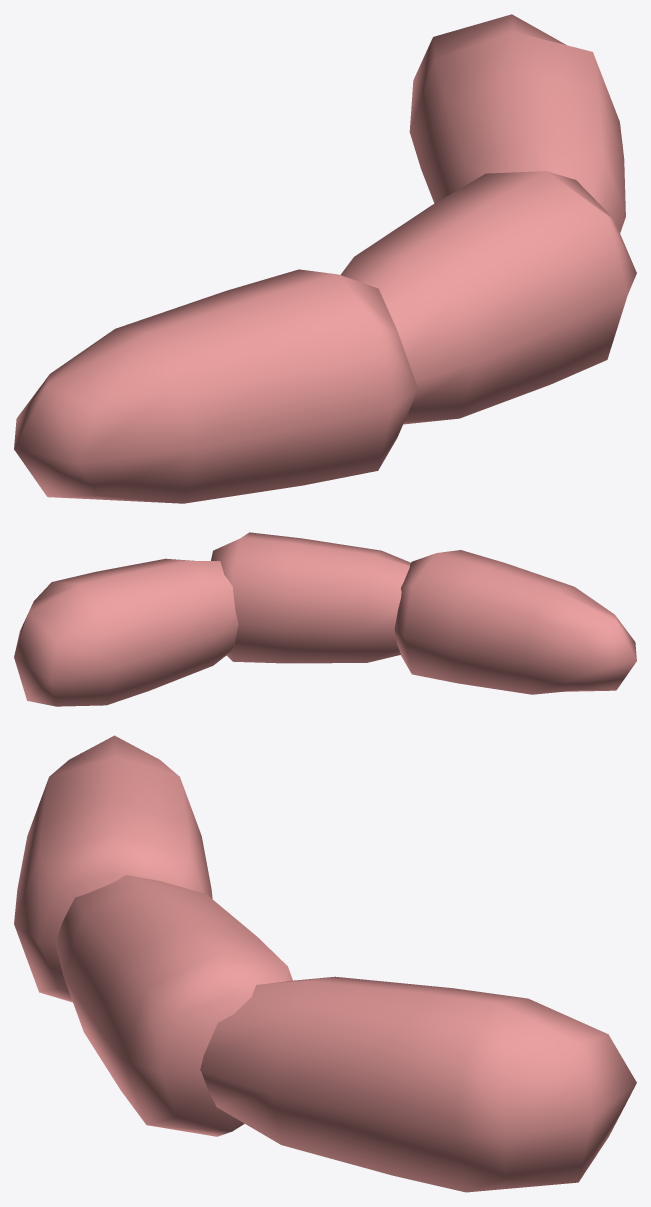
File: Lobster_Claw_1_Peeled_2.fbx
The picture shows the model from 3 angles, top to bottom: view 1: azimuth 30°, elevation 25°; view 2: azimuth 150°, elevation 25°; view 3: azimuth 270°, elevation 25°; orthographic projection. The views are drawn at different scales.
Visible parts, largest first — view 1: Lobster_Claw_1_Peeled_2; view 2: Lobster_Claw_1_Peeled_2; view 3: Lobster_Claw_1_Peeled_2.
Boxes of the visible parts, x1,y1,x2,y2 form: Lobster_Claw_1_Peeled_2: [14, 14, 636, 503]; Lobster_Claw_1_Peeled_2: [14, 532, 636, 706]; Lobster_Claw_1_Peeled_2: [14, 735, 636, 1192].
Size of the model in its own units: 13.38 by 3.15 by 9.56.
